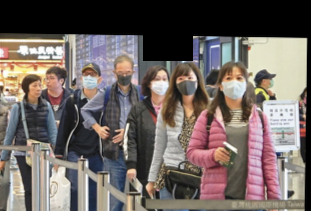with_mask: (221, 72, 247, 101), (175, 73, 198, 97), (149, 73, 169, 97), (80, 70, 98, 90), (114, 70, 133, 88), (264, 76, 275, 88)
without_mask: (28, 81, 43, 99), (43, 75, 56, 91)
